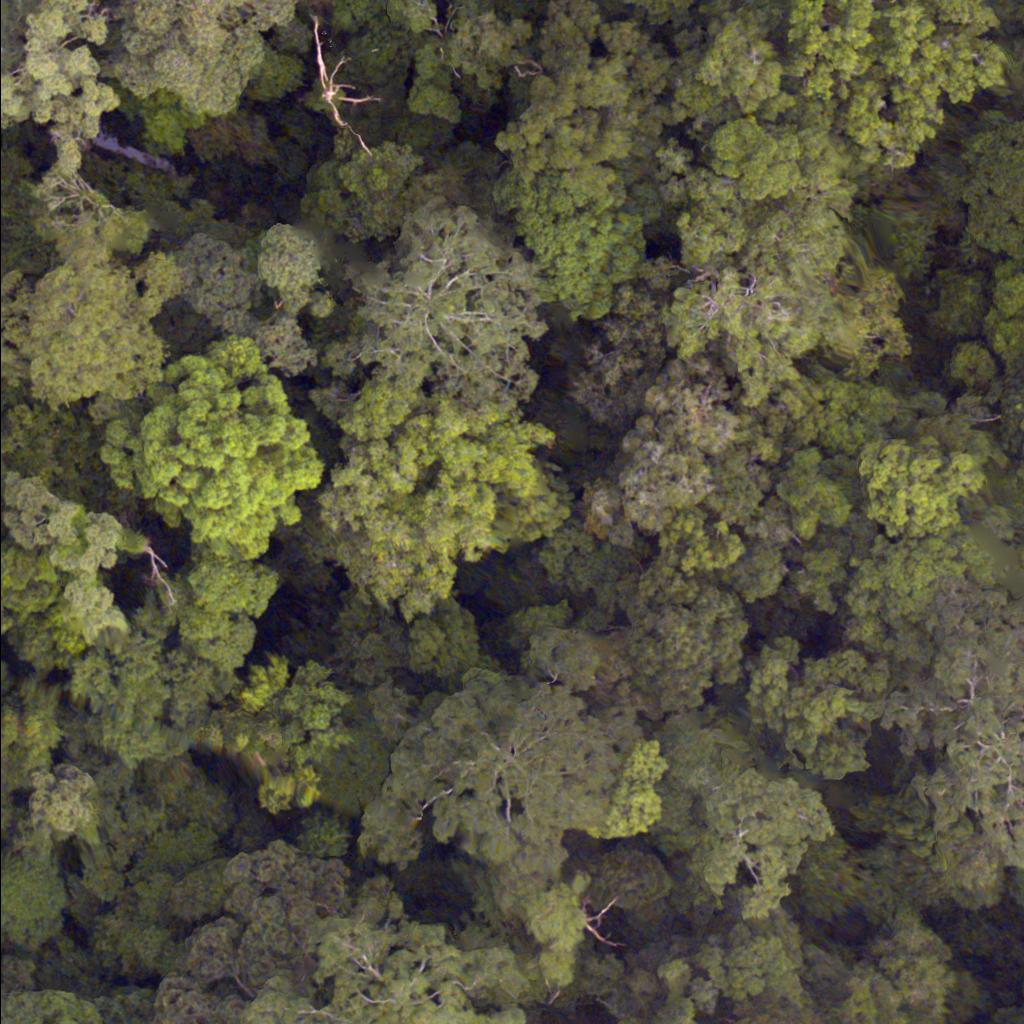crown: (362, 638, 650, 877), (312, 394, 559, 636), (846, 570, 1023, 877), (99, 342, 320, 555), (325, 215, 553, 416), (481, 0, 690, 199), (583, 341, 740, 554), (0, 480, 166, 641), (0, 0, 136, 184), (739, 639, 902, 791), (688, 763, 839, 926), (490, 168, 646, 318), (681, 0, 811, 129), (859, 433, 999, 539), (933, 110, 1023, 258), (29, 763, 102, 835), (1006, 443, 1023, 495)
